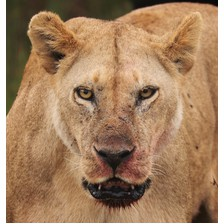lion: (7, 0, 217, 222)
